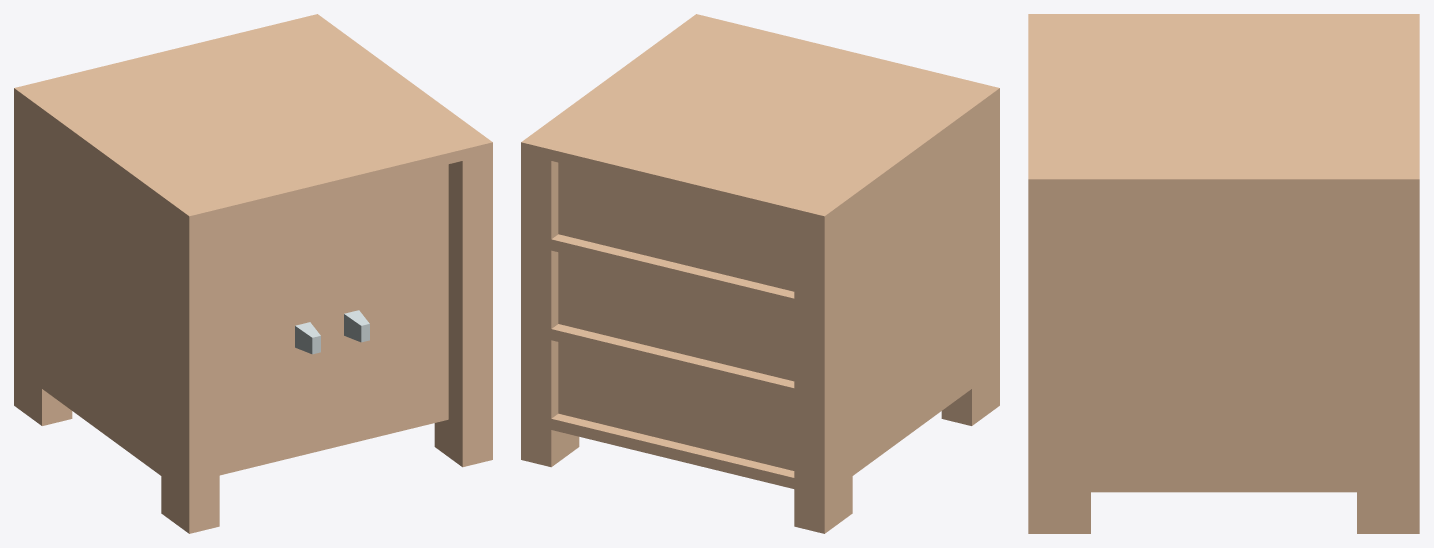
Rendered from kn-bookcase-closed-doors.glb.
3 renders of one model, left to right at view 1: azimuth 30°, elevation 25°; view 2: azimuth 150°, elevation 25°; view 3: azimuth 270°, elevation 25°, orthographic. The views are drawn at different scales.
Visible parts, largest first — view 1: bookcaseClosedDoors(Clone), doorLeft; view 2: bookcaseClosedDoors(Clone); view 3: bookcaseClosedDoors(Clone).
Part boxes in pixels (x1=…): bookcaseClosedDoors(Clone): x1=14, y1=14, x2=492, y2=533; doorLeft: x1=295, y1=310, x2=369, y2=354; bookcaseClosedDoors(Clone): x1=521, y1=14, x2=999, y2=533; bookcaseClosedDoors(Clone): x1=1028, y1=14, x2=1419, y2=533.
Bounding box in the file's own units: 1 × 1 × 1.
